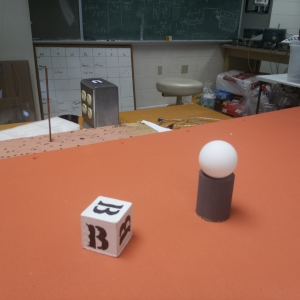blockB: (80, 191, 133, 253)
obstacle: (197, 137, 237, 225)
